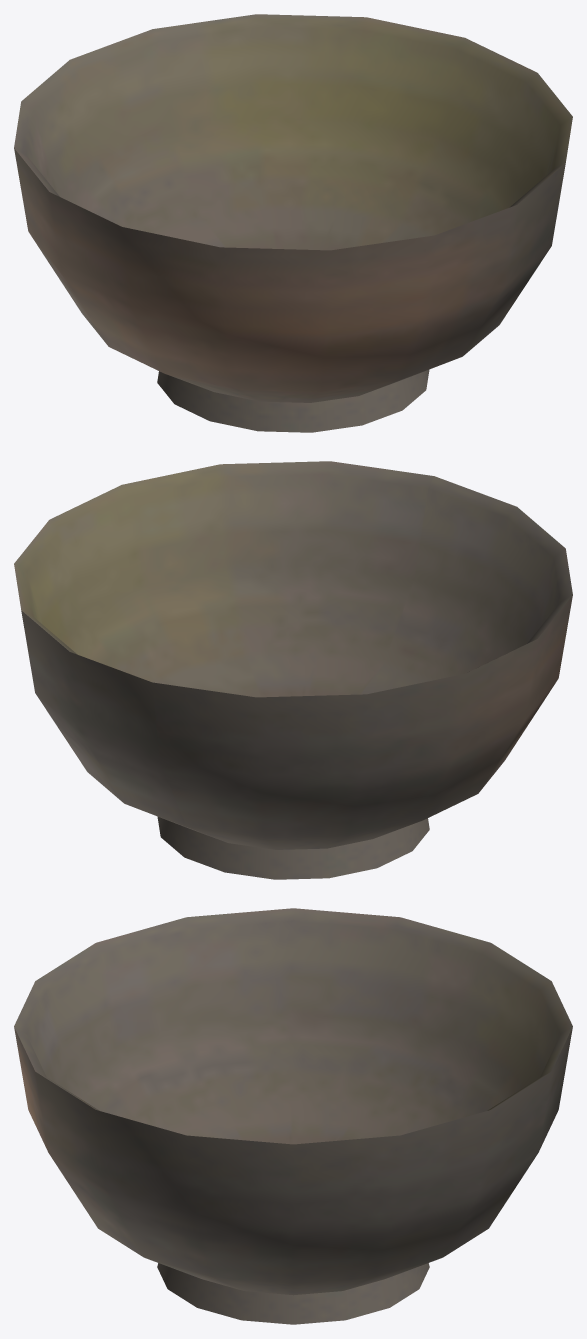
File: Tableware_RiceBowl01.fbx
3 views of the same model, one above another, from view 1: azimuth 30°, elevation 25°; view 2: azimuth 150°, elevation 25°; view 3: azimuth 270°, elevation 25° (orthographic).
Visible parts, largest first — view 1: Tableware_RiceBowl01; view 2: Tableware_RiceBowl01; view 3: Tableware_RiceBowl01.
Part boxes in pixels (box(x1,y1,x2,y2)): Tableware_RiceBowl01: box(14, 14, 572, 432); Tableware_RiceBowl01: box(14, 461, 572, 879); Tableware_RiceBowl01: box(14, 908, 572, 1324).
Bounding box in the file's own units: 12.6 × 5.99 × 12.6.
